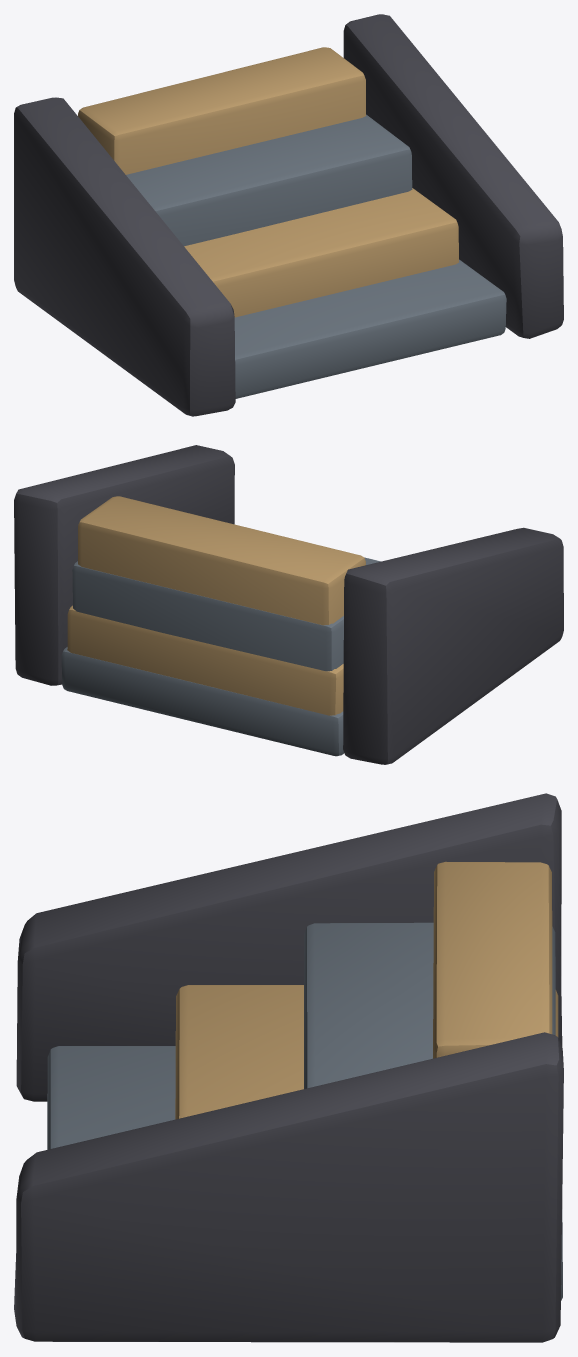
Rendered from deco_stairs_stone.fbx.
3 views of the same model, one above another, from view 1: azimuth 30°, elevation 25°; view 2: azimuth 150°, elevation 25°; view 3: azimuth 270°, elevation 25° (orthographic). The views are drawn at different scales.
Parts seen in each view (by area): view 1: Stairs_Stone_Steps, Stairs_Stone_Cheeks; view 2: Stairs_Stone_Cheeks, Stairs_Stone_Steps; view 3: Stairs_Stone_Cheeks, Stairs_Stone_Steps.
Part boxes in pixels (bbox=[...]): Stairs_Stone_Steps: bbox=[78, 47, 506, 398]; Stairs_Stone_Cheeks: bbox=[14, 14, 563, 416]; Stairs_Stone_Cheeks: bbox=[14, 445, 563, 764]; Stairs_Stone_Steps: bbox=[61, 496, 380, 756]; Stairs_Stone_Cheeks: bbox=[14, 793, 563, 1342]; Stairs_Stone_Steps: bbox=[47, 861, 562, 1300].
Size of the model in its own units: 230 by 112 by 192.
